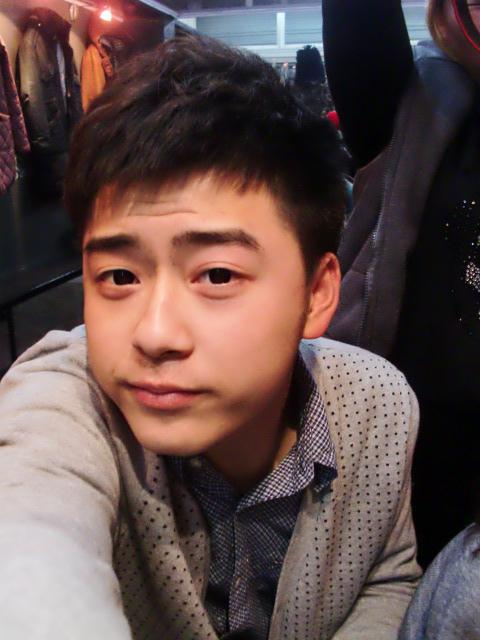person: (53, 48, 396, 610)
